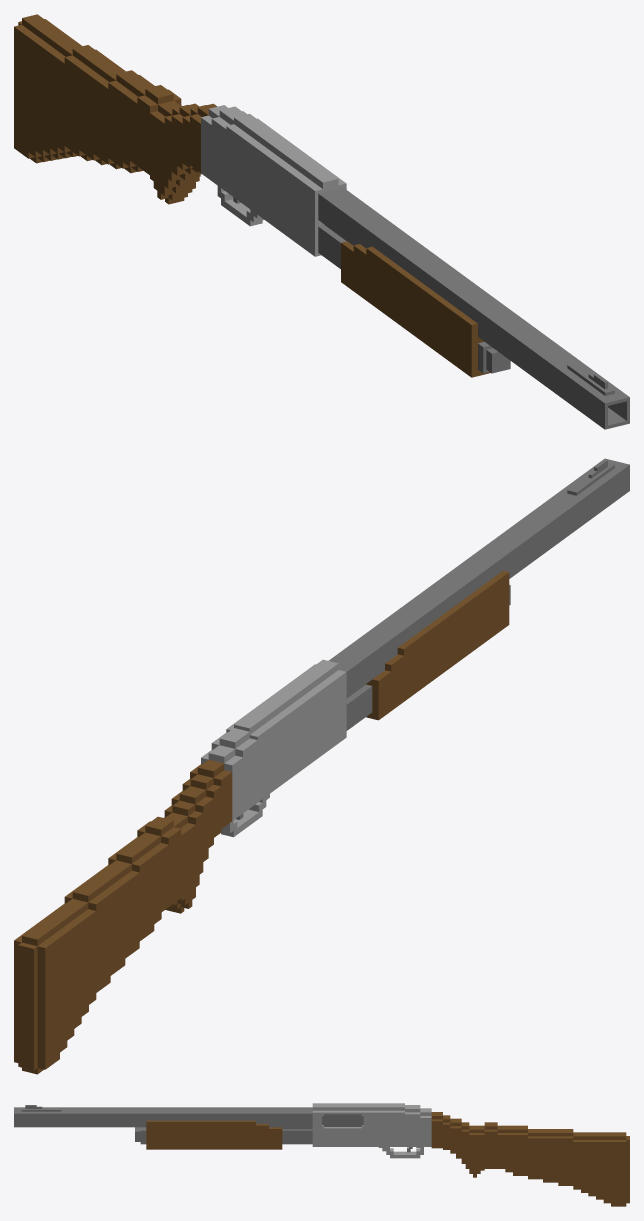
Rendered from shotgun_pumpAction.fbx.
The picture shows the model from 3 angles, top to bottom: view 1: azimuth 30°, elevation 25°; view 2: azimuth 150°, elevation 25°; view 3: azimuth 270°, elevation 25°; orthographic projection. The views are drawn at different scales.
Visible parts, largest first — view 1: pumpAction_base, pumpAction_foreStock; view 2: pumpAction_base, pumpAction_foreStock; view 3: pumpAction_base, pumpAction_foreStock, pumpAction_breech.
Part boxes in pixels (x1,y1,x2,y2): pumpAction_base: (14, 14, 629, 429); pumpAction_foreStock: (341, 241, 490, 377); pumpAction_base: (14, 458, 629, 1074); pumpAction_foreStock: (366, 570, 509, 720); pumpAction_base: (14, 1103, 629, 1206); pumpAction_foreStock: (146, 1120, 282, 1149); pumpAction_breech: (322, 1114, 363, 1126).
Bounding box in the file's own units: 7.2 × 34.8 × 196.
